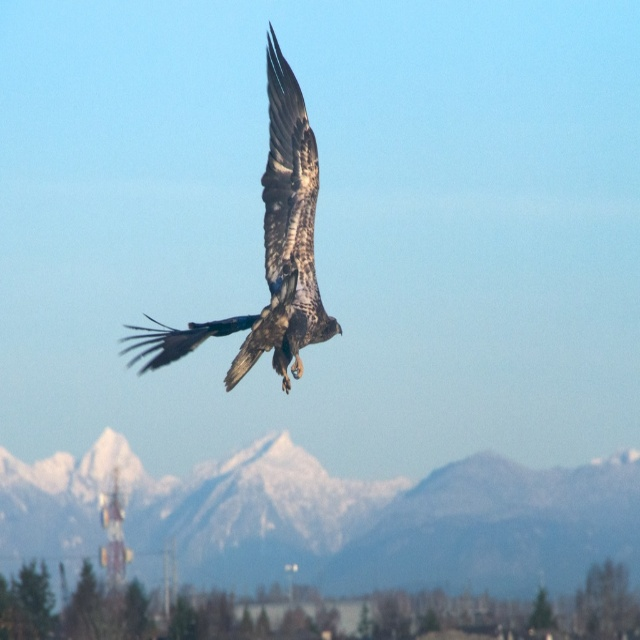Eagle: (115, 23, 344, 396)
